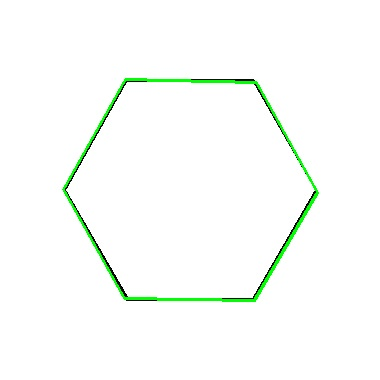line_segment: (63, 78, 318, 302)
